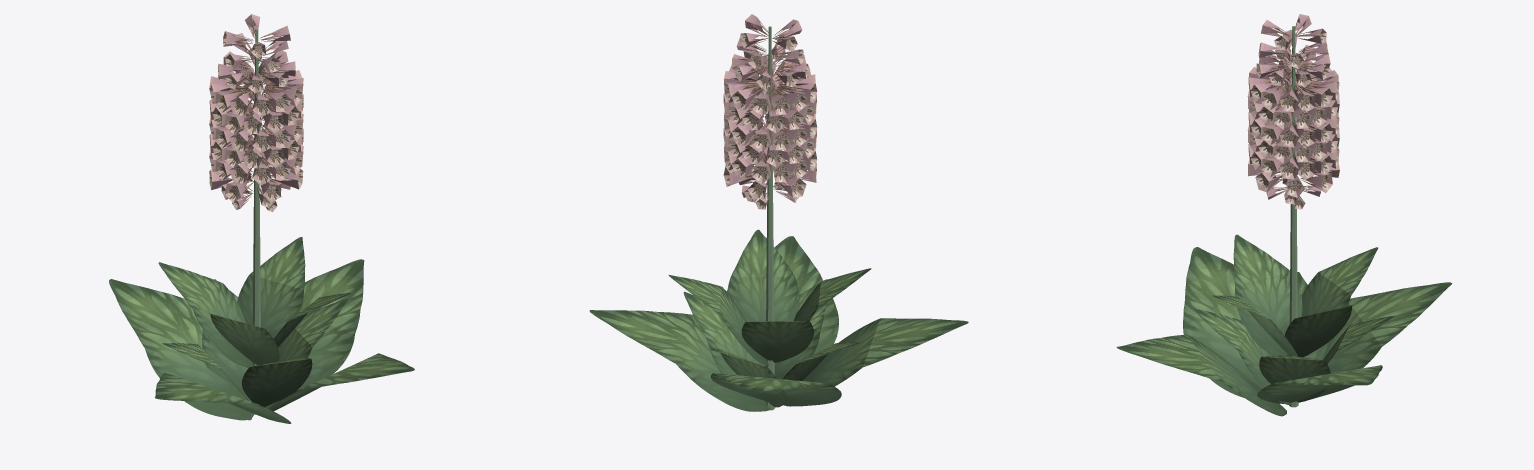
File: NeutralHighPolyMoreFlowers.fbx
3 views of the same model, side by side, from view 1: azimuth 30°, elevation 25°; view 2: azimuth 150°, elevation 25°; view 3: azimuth 270°, elevation 25° (orthographic).
Parts seen in each view (by area): view 1: LeafesCurve.033, LeafesCurve.034, LeafesCurve.035, Curve.100, Curve.099, Curve.091, Curve.097, Curve.095, Curve.096, Curve.101, Stem.007, Curve.092 (+1 smaller); view 2: LeafesCurve.033, LeafesCurve.034, LeafesCurve.035, Curve.100, Curve.099, Curve.091, Curve.097, Curve.095, Stem.007, Curve.096, Curve.101, Curve.092 (+1 smaller); view 3: LeafesCurve.033, LeafesCurve.034, LeafesCurve.035, Curve.100, Curve.099, Curve.091, Curve.096, Curve.097, Curve.095, Curve.101, Stem.007, Curve.092 (+1 smaller).
Boxes of the visible parts, box(x1,y1,x2,y2) form: LeafesCurve.033: box(109, 259, 414, 423); LeafesCurve.034: box(158, 237, 350, 367); LeafesCurve.035: box(162, 279, 347, 406); Curve.100: box(209, 61, 303, 117); Curve.099: box(209, 79, 303, 134); Curve.091: box(209, 101, 303, 153); Curve.097: box(209, 129, 303, 185); Curve.095: box(209, 113, 303, 168); Curve.096: box(218, 48, 295, 93); Curve.101: box(209, 152, 303, 202); Stem.007: box(252, 29, 260, 414); Curve.092: box(223, 14, 290, 58); LeafesCurve.033: box(589, 236, 968, 411); LeafesCurve.034: box(668, 229, 871, 365); LeafesCurve.035: box(683, 279, 859, 407); Curve.100: box(724, 56, 817, 115); Curve.099: box(723, 74, 816, 133); Curve.091: box(724, 92, 817, 151); Curve.097: box(724, 124, 817, 183); Curve.095: box(723, 108, 816, 167); Stem.007: box(765, 26, 774, 410); Curve.096: box(731, 45, 808, 88); Curve.101: box(723, 148, 816, 199); Curve.092: box(739, 14, 802, 51); LeafesCurve.033: box(1116, 247, 1452, 416); LeafesCurve.034: box(1212, 234, 1378, 357); LeafesCurve.035: box(1193, 272, 1394, 404); Curve.100: box(1248, 59, 1339, 112); Curve.099: box(1247, 76, 1339, 129); Curve.091: box(1248, 105, 1339, 148); Curve.096: box(1256, 44, 1330, 87); Curve.097: box(1248, 127, 1339, 180); Curve.095: box(1247, 122, 1339, 163); Curve.101: box(1248, 159, 1339, 197); Stem.007: box(1289, 26, 1298, 407); Curve.092: box(1261, 14, 1326, 50).
Bounding box in the file's own units: 116 × 101 × 113.
